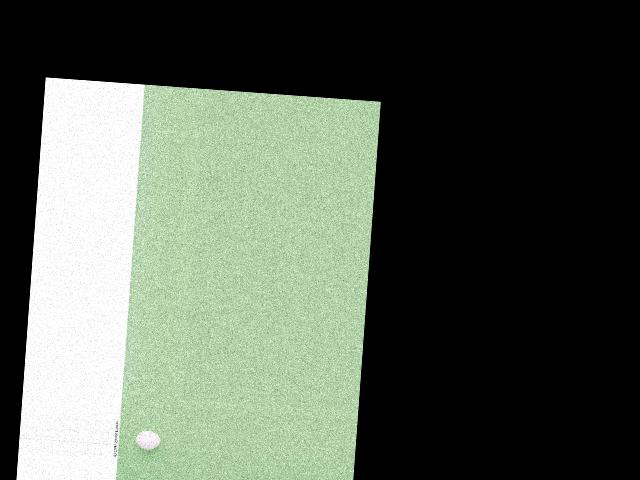egg: (135, 429, 160, 450)
